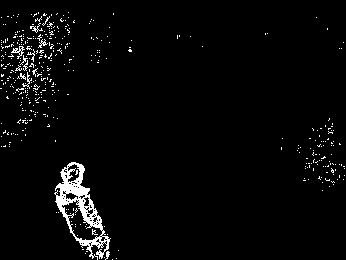person: (53, 160, 112, 260)
